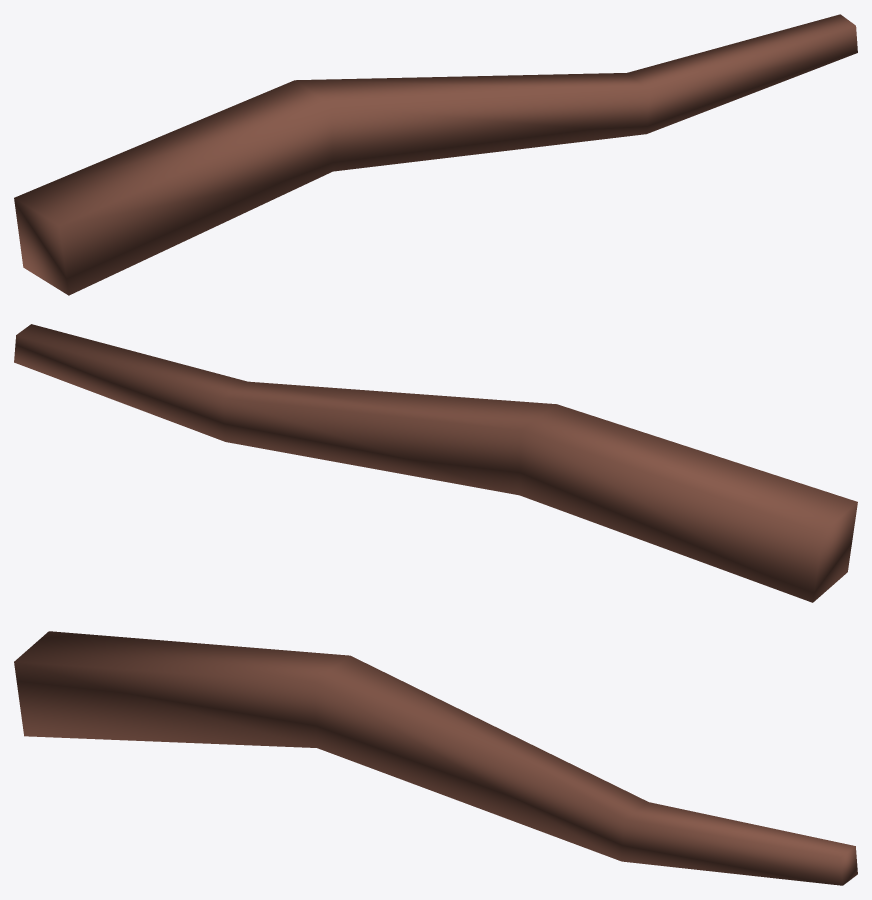
The model's file is Stick_DarkBrown_3.fbx.
3 renders of one model, top to bottom at view 1: azimuth 30°, elevation 25°; view 2: azimuth 150°, elevation 25°; view 3: azimuth 330°, elevation 25°, orthographic.
Parts seen in each view (by area): view 1: Stick_DarkBrown_3; view 2: Stick_DarkBrown_3; view 3: Stick_DarkBrown_3.
Boxes of the visible parts, x1,y1,x2,y2 form: Stick_DarkBrown_3: [14, 14, 857, 295]; Stick_DarkBrown_3: [14, 324, 857, 602]; Stick_DarkBrown_3: [14, 631, 857, 885].
Size of the model in its own units: 186 by 24.13 by 20.
